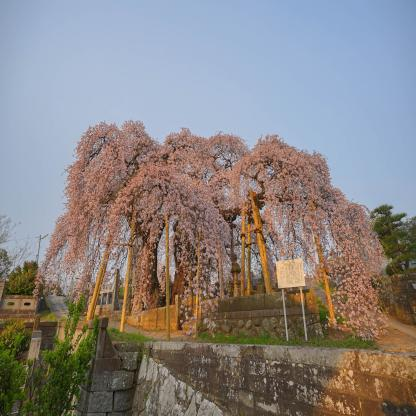ShidareZakura: (32, 119, 394, 342)
